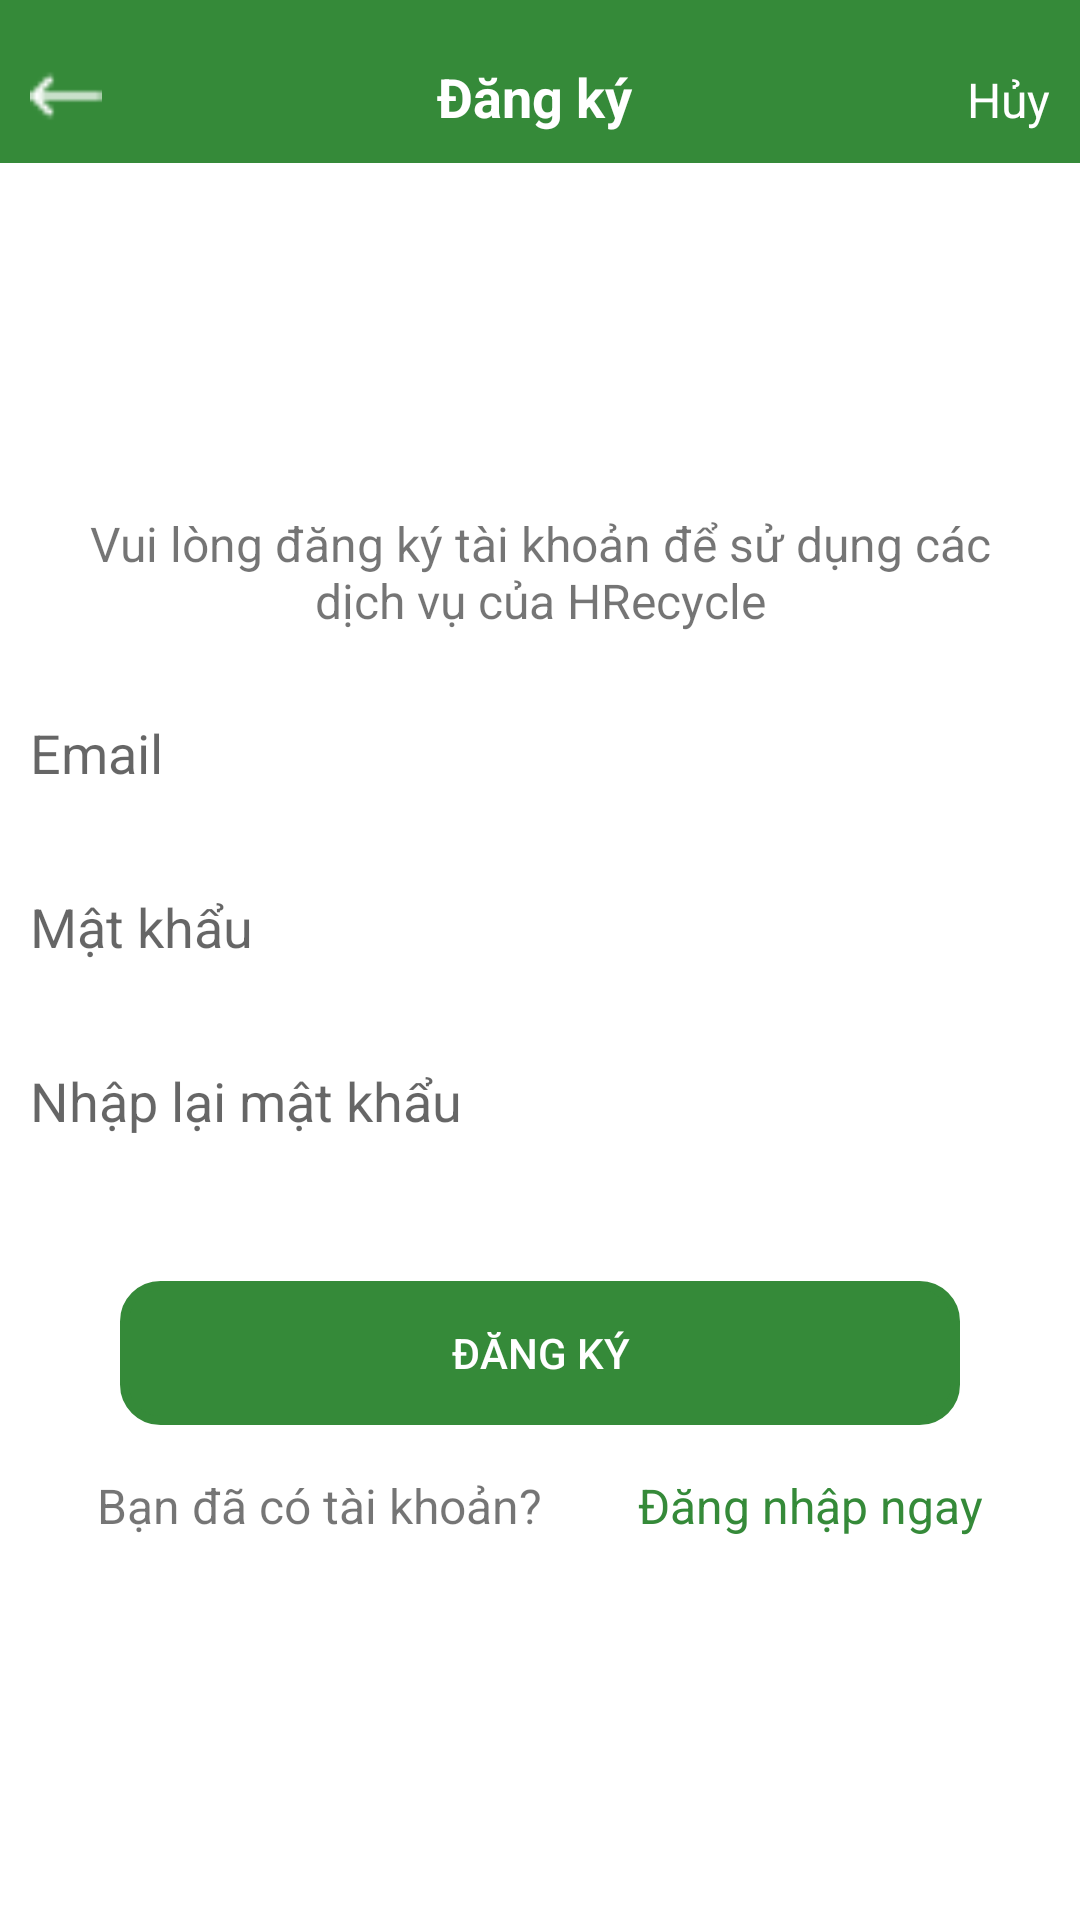

Icon bounding boxes for this 1080x1920 phone screenshot, format rect(x1, y1, x2, y2):
left arrow: rect(30, 74, 102, 118)
